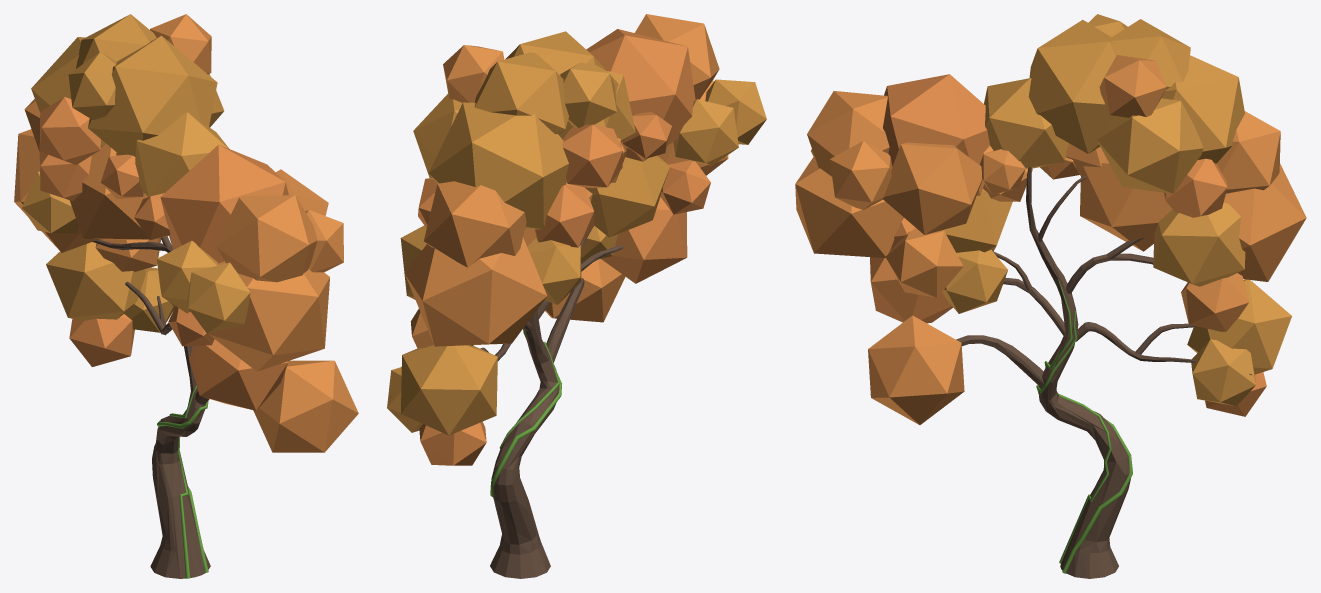
File: tree12a.glb
3 views of the same model, side by side, from view 1: azimuth 30°, elevation 25°; view 2: azimuth 150°, elevation 25°; view 3: azimuth 270°, elevation 25° (orthographic). The views are drawn at different scales.
Parts seen in each view (by area): view 1: tree_0044; view 2: tree_0044; view 3: tree_0044.
Boxes of the visible parts, box(x1,y1,x2,y2) form: tree_0044: box(14, 14, 358, 578); tree_0044: box(387, 14, 766, 578); tree_0044: box(795, 14, 1306, 578).
Bounding box in the file's own units: 1.49 × 3.83 × 3.38.
